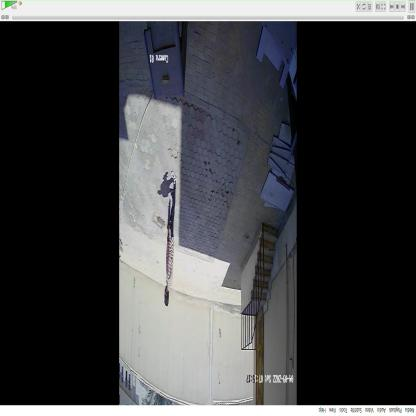handgun: (165, 189, 173, 249)
